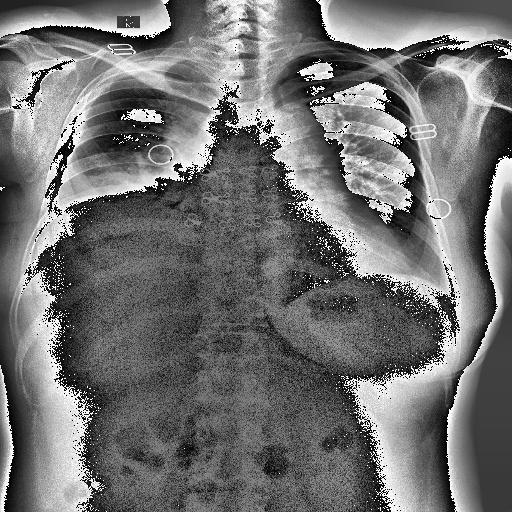0- Aortic enlargement: (256, 102, 330, 156), (262, 105, 328, 159)
10- Pleural effusion: (45, 180, 126, 254)
11- Pleural thickening: (49, 72, 134, 206), (121, 56, 221, 74)
3- Cardiomegaly: (140, 184, 410, 286), (166, 196, 410, 284)
7- Lung Opacity: (22, 194, 213, 300), (28, 174, 222, 276)
9- Other lesion: (22, 194, 213, 300), (28, 174, 222, 276)
